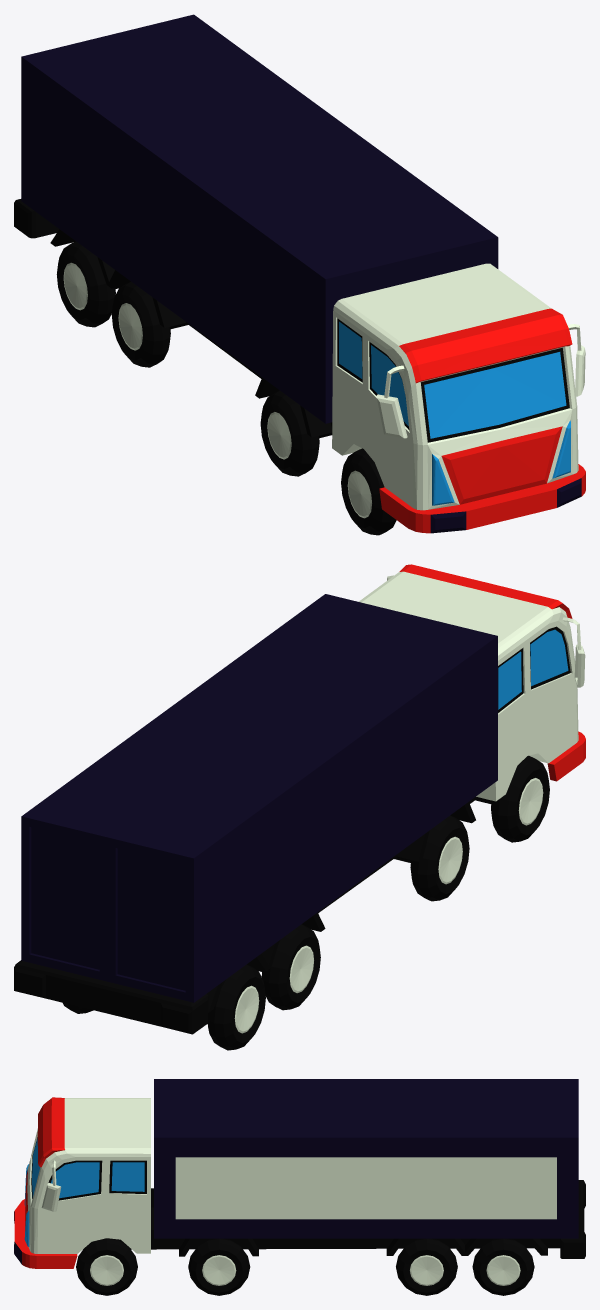
The model's file is car_truck.obj.
3 renders of one model, top to bottom at view 1: azimuth 30°, elevation 25°; view 2: azimuth 150°, elevation 25°; view 3: azimuth 270°, elevation 25°, orthographic. The views are drawn at different scales.
Parts seen in each view (by area): view 1: box, car_cabin, tire3, tire4, tire2, body, tire1; view 2: box, car_cabin, body, tire4, tire2, tire3, tire1; view 3: box, car_cabin, body, tire4, tire2, tire3, tire1.
Part boxes in pixels (x1,y1,x2,y2): box: (21,14,498,423); car_cabin: (332,263,585,533); tire3: (111,281,188,367); tire4: (56,241,121,327); tire2: (260,390,332,476); body: (14,199,332,437); tire1: (341,448,396,535); box: (21,594,497,1002); car_cabin: (358,564,585,801); body: (14,797,478,1034); tire4: (63,964,265,1050); tire2: (394,815,469,901); tire3: (255,924,320,1010); tire1: (475,755,549,842); box: (154,1079,578,1238); car_cabin: (14,1097,150,1268); body: (89,1180,585,1258); tire4: (472,1238,534,1295); tire2: (188,1238,250,1295); tire3: (396,1238,457,1295); tire1: (76,1238,137,1295).
Size of the model in its own units: 3.12 by 3.31 by 10.65.
